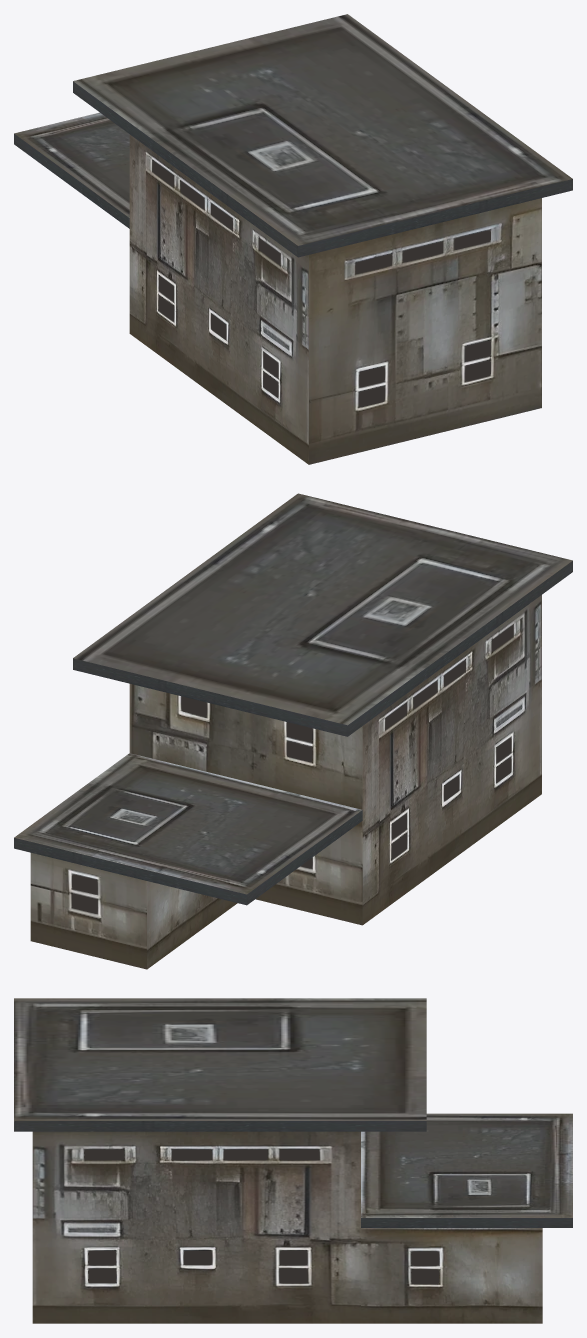
The model's file is 2storycivliving_hdtex.glb.
3 views of the same model, one above another, from view 1: azimuth 30°, elevation 25°; view 2: azimuth 150°, elevation 25°; view 3: azimuth 270°, elevation 25° (orthographic). The views are drawn at different scales.
Parts seen in each view (by area): view 1: Box01, LitWinJ_2StoryCivLiving; view 2: Box01, LitWinJ_2StoryCivLiving; view 3: Box01, LitWinJ_2StoryCivLiving.
Part boxes in pixels (box(x1,y1,x2,y2)): Box01: box(14, 14, 572, 464); LitWinJ_2StoryCivLiving: box(152, 161, 490, 407); Box01: box(14, 493, 572, 969); LitWinJ_2StoryCivLiving: box(72, 625, 513, 913); Box01: box(14, 998, 572, 1323); LitWinJ_2StoryCivLiving: box(84, 1149, 439, 1284).
Size of the model in its own units: 6.9 by 5.55 by 13.26.
1 material, 1 textured.
